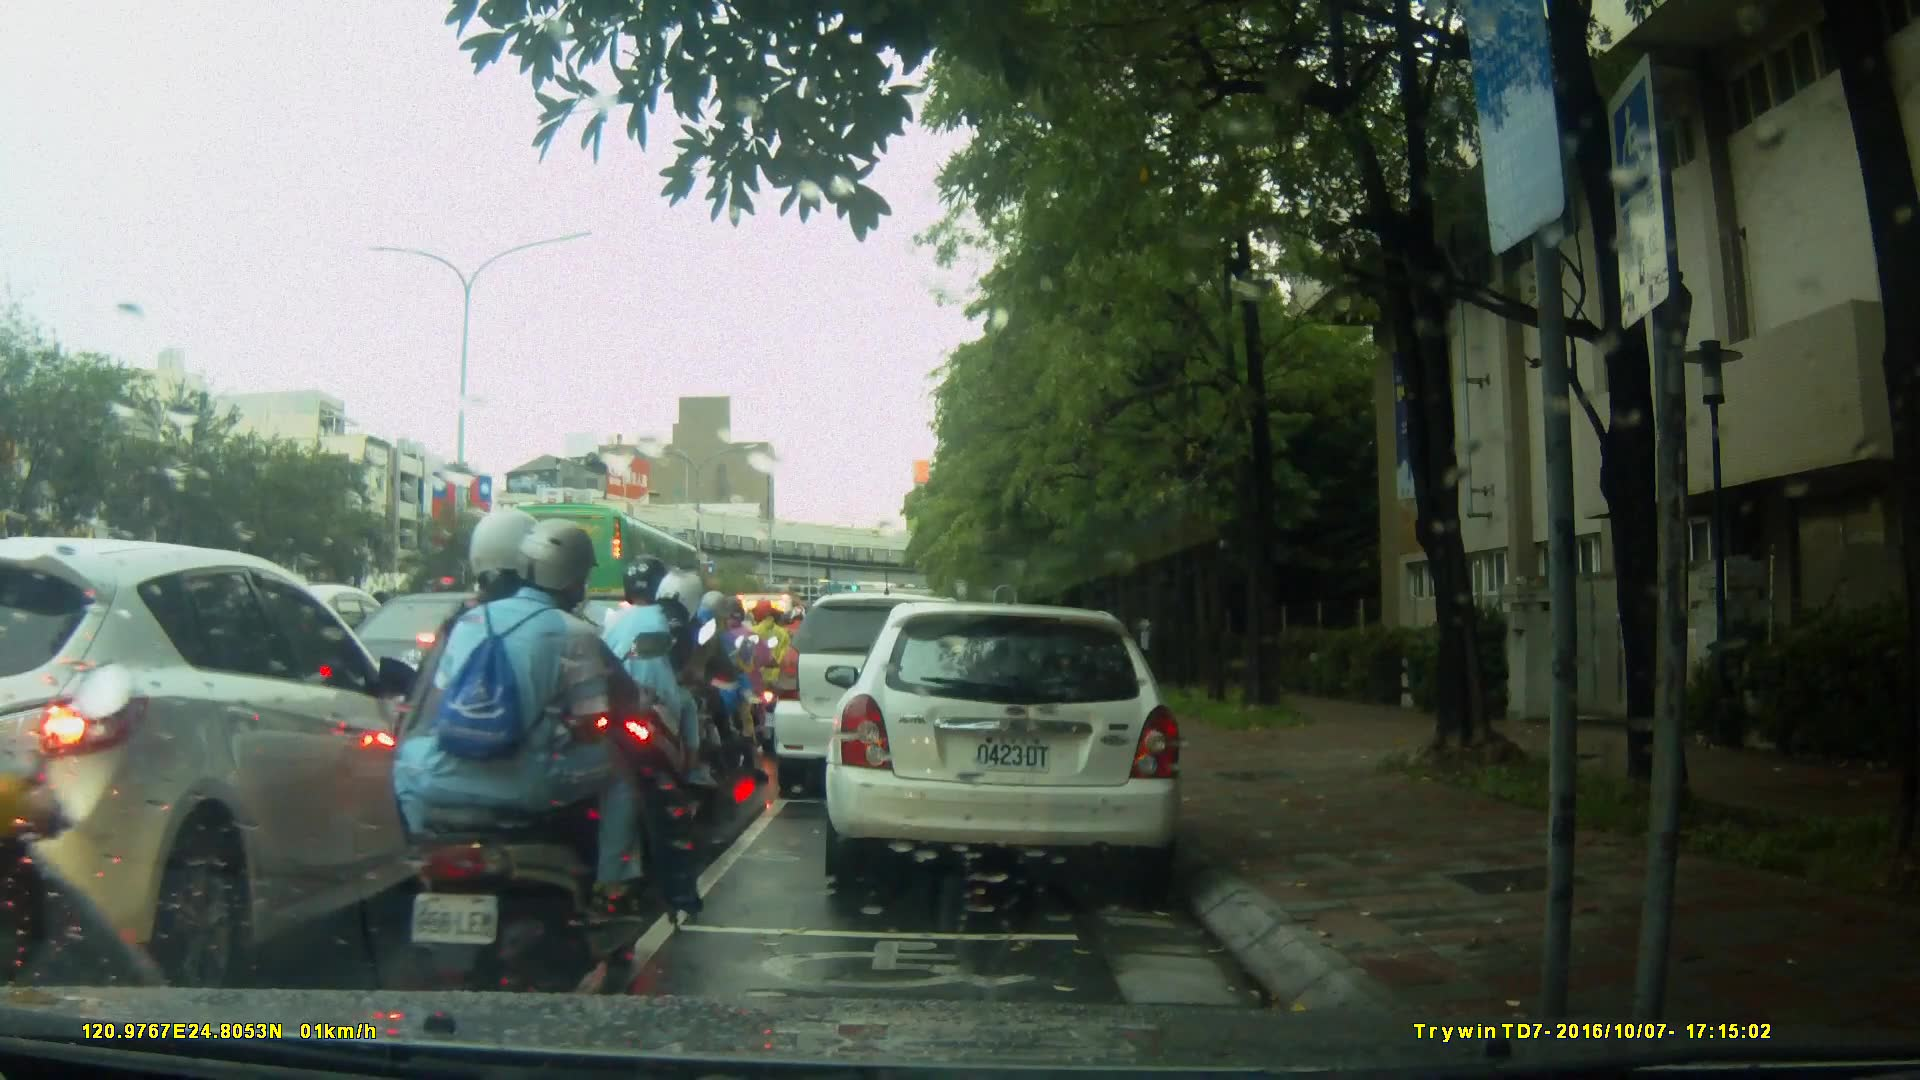rider: (388, 508, 684, 1019), (590, 562, 716, 840), (686, 589, 768, 778), (665, 584, 736, 788), (704, 598, 776, 764), (749, 598, 797, 737)
vehicle: (3, 536, 460, 987), (831, 592, 1196, 897), (312, 590, 629, 776), (772, 590, 999, 803), (496, 501, 712, 636)
